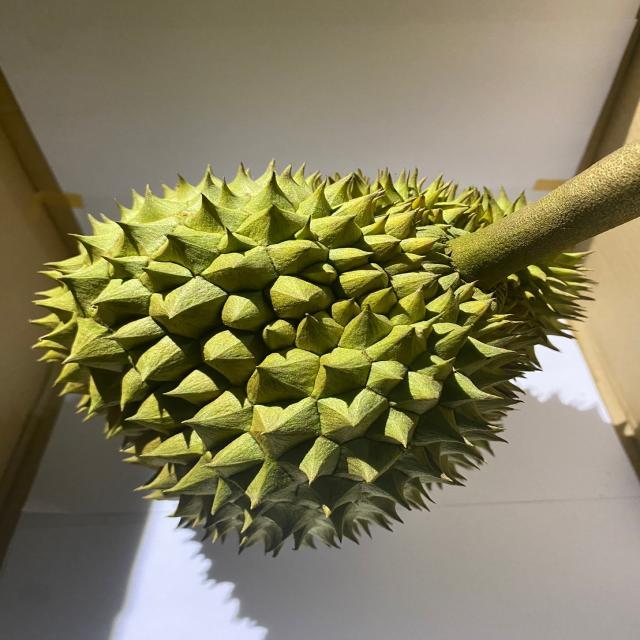immature: (30, 159, 592, 559)
